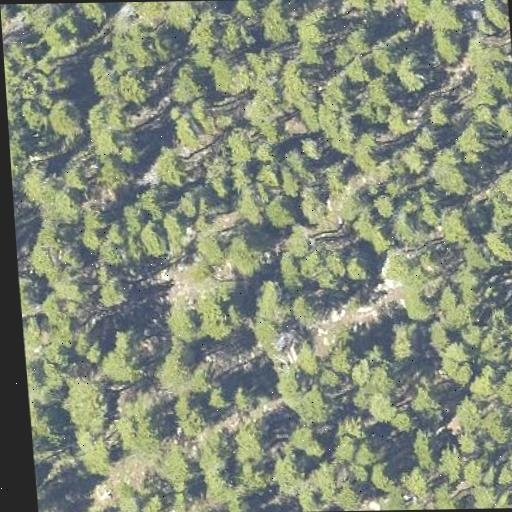tree-top: (110, 394, 171, 456), (93, 330, 154, 390), (99, 21, 164, 75), (58, 374, 113, 436), (87, 128, 141, 188), (388, 260, 437, 326), (347, 363, 398, 426), (313, 76, 360, 140), (188, 288, 242, 343), (313, 452, 364, 508), (32, 8, 88, 58), (176, 58, 241, 99), (281, 375, 335, 423), (326, 414, 375, 464), (288, 6, 338, 54), (166, 103, 220, 147), (221, 228, 270, 276), (27, 225, 76, 273), (74, 430, 121, 478), (427, 144, 472, 194), (247, 99, 294, 146), (273, 364, 319, 412), (201, 477, 264, 512), (203, 53, 250, 99), (389, 46, 434, 94), (467, 52, 512, 100), (303, 242, 348, 290), (89, 267, 135, 313), (6, 91, 53, 136), (351, 213, 392, 264), (195, 428, 237, 477), (46, 93, 88, 141), (420, 0, 469, 41), (2, 37, 42, 87), (343, 132, 388, 176), (331, 29, 380, 69), (434, 340, 476, 386), (48, 274, 90, 320), (355, 74, 398, 118), (254, 2, 296, 47), (251, 278, 292, 324), (105, 67, 152, 107), (266, 446, 308, 490), (150, 145, 191, 190), (230, 423, 273, 465), (434, 202, 474, 247), (240, 55, 279, 101), (402, 374, 443, 417), (166, 66, 209, 106), (385, 321, 425, 364), (209, 10, 249, 53), (276, 62, 315, 106), (43, 186, 85, 226), (12, 166, 54, 206), (163, 344, 202, 386), (439, 288, 479, 328), (296, 181, 334, 223), (406, 425, 444, 467), (135, 216, 174, 256), (173, 394, 207, 438), (259, 192, 298, 230), (222, 128, 258, 169), (38, 338, 76, 376), (155, 452, 192, 491), (279, 224, 319, 260), (433, 442, 468, 482), (364, 183, 404, 218), (163, 301, 196, 343), (431, 26, 467, 64), (72, 322, 106, 362), (327, 340, 363, 377), (464, 366, 499, 404), (28, 383, 60, 424), (174, 187, 211, 222), (475, 330, 512, 365), (400, 464, 435, 500), (452, 123, 488, 158), (194, 232, 231, 266), (290, 291, 323, 329), (482, 223, 512, 264), (364, 460, 400, 494), (101, 224, 133, 262), (9, 136, 35, 182), (135, 184, 169, 219), (272, 252, 304, 288), (160, 1, 201, 29), (343, 255, 381, 285), (200, 379, 232, 413), (18, 270, 43, 312), (465, 480, 501, 509), (425, 96, 457, 128), (292, 132, 326, 162), (136, 490, 176, 512), (399, 145, 430, 173), (111, 484, 140, 512), (484, 0, 510, 31), (74, 2, 112, 22), (495, 376, 512, 420), (490, 108, 512, 140), (495, 170, 512, 205), (77, 228, 100, 252), (500, 444, 512, 482), (501, 342, 512, 378), (509, 314, 512, 353)
